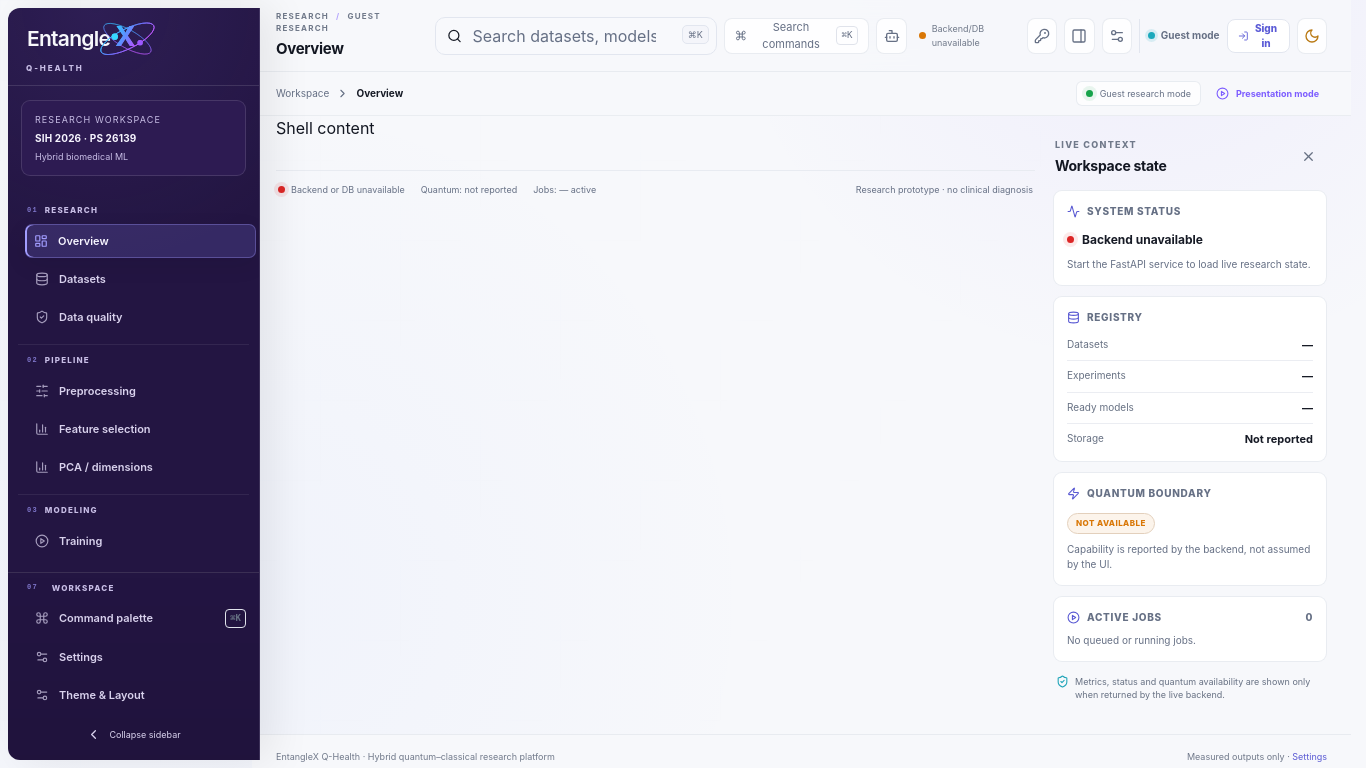
Test: research shell navigation and commands › renders a discoverable header theme toggle and persists the chosen theme
Click the button named "Switch to dark theme" at (1312, 36), box [1297, 18, 1327, 54]
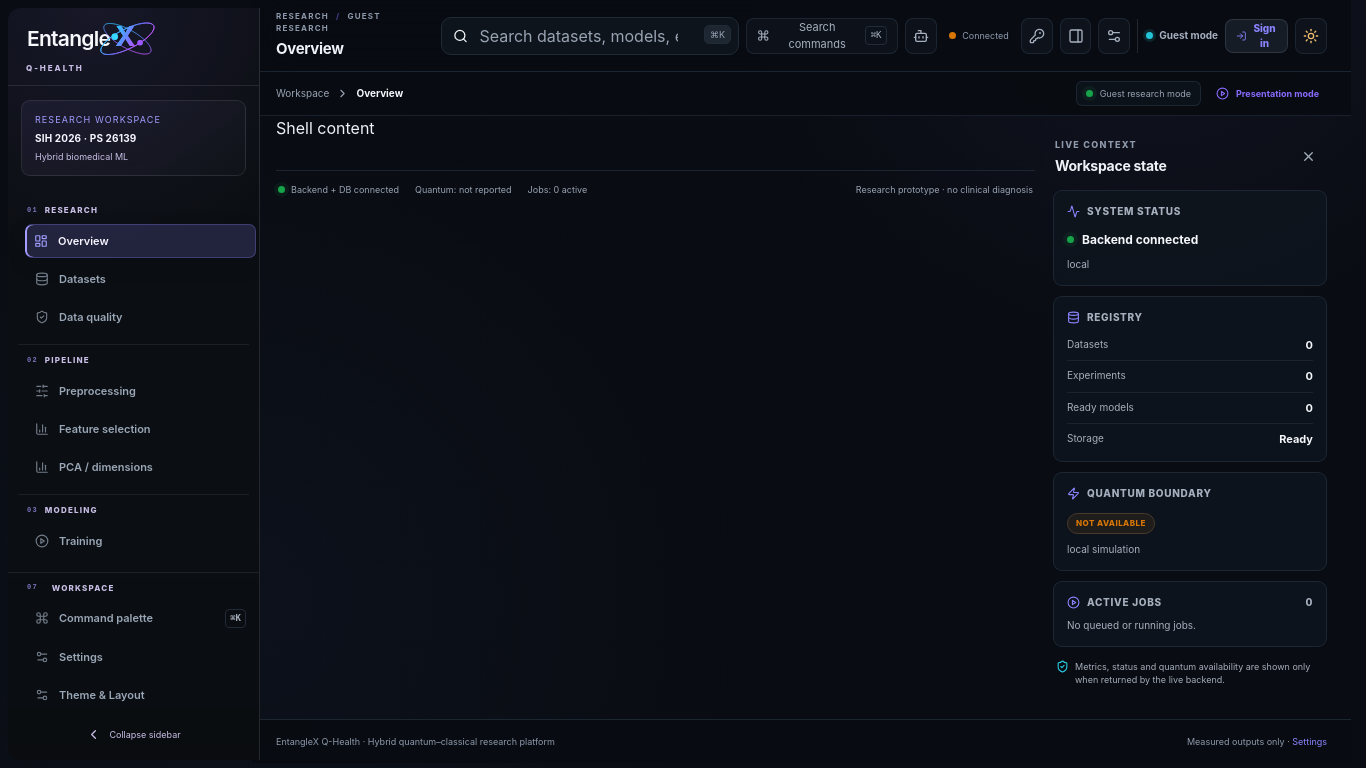
Expected: the button named "Switch to light theme" is shown, [1295, 18, 1327, 54]
